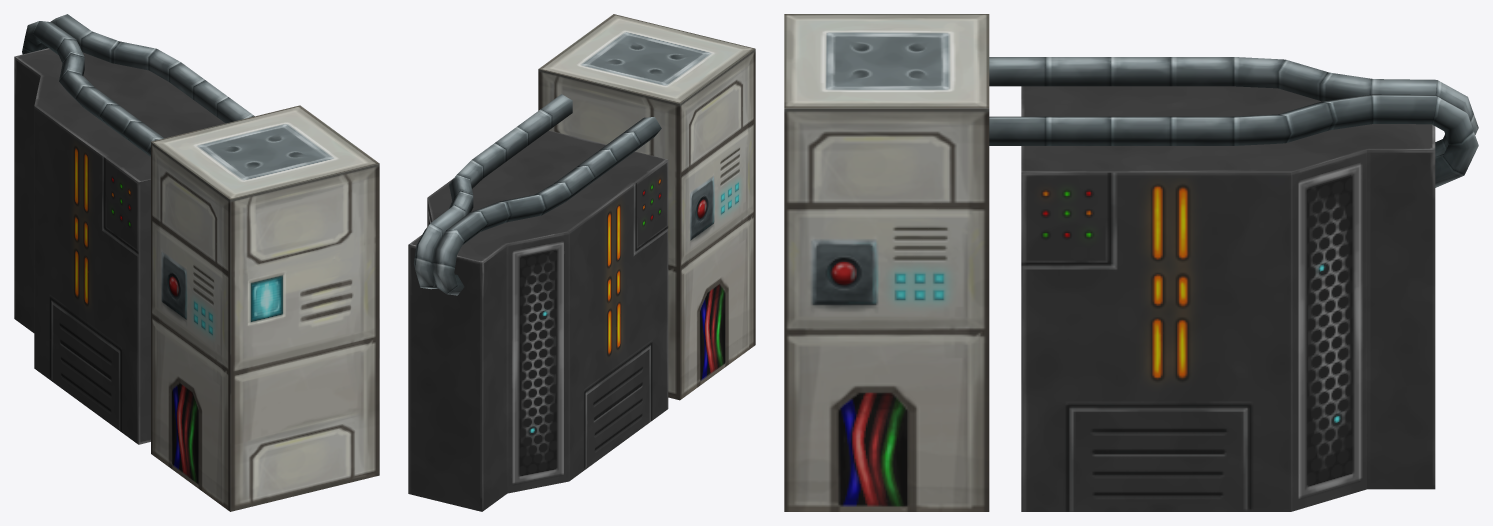
File: Server.fbx
3 views of the same model, side by side, from view 1: azimuth 30°, elevation 25°; view 2: azimuth 150°, elevation 25°; view 3: azimuth 270°, elevation 25° (orthographic). The views are drawn at different scales.
Parts seen in each view (by area): view 1: Server; view 2: Server; view 3: Server.
Part boxes in pixels (left/top/right/bottom): Server: left=14, top=14, right=379, bottom=511; Server: left=408, top=14, right=755, bottom=511; Server: left=784, top=14, right=1478, bottom=511.
Size of the model in its own units: 1 by 2 by 3.12.
